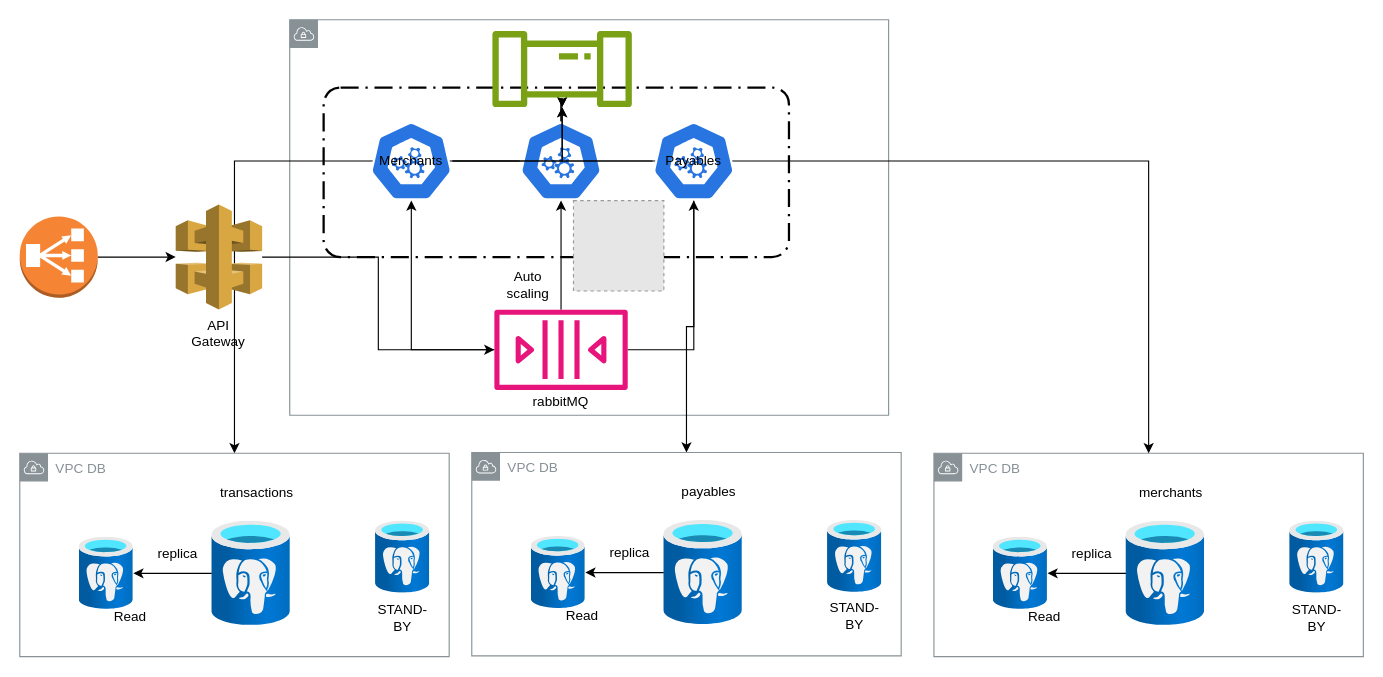
Image size: 1383x677. Some labels were removed from this diagram. Grey dashed boxes stand in for pictures. Here are the shapes that lost their labels. From the top down, the box of each, then its label:
(491, 31, 632, 107): SAGA
(519, 120, 602, 201): Transacations
(289, 19, 889, 415): VPC
